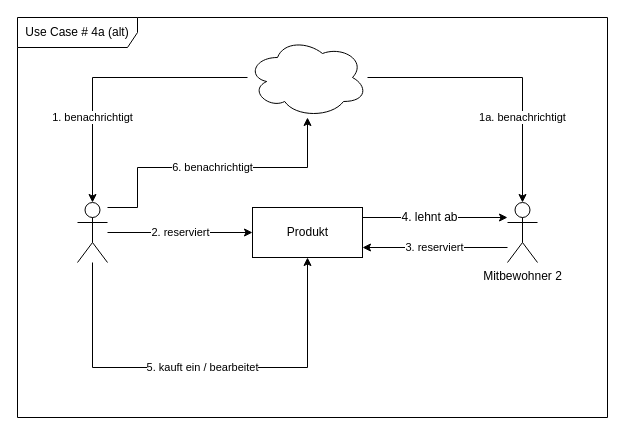
This 625x435 diagram has some shape labels left out. The centre of each missing label's shape, as x and y in pixels:
"Mitbewohner 1" goes at (92,232).
"Webservice" goes at (307,77).
